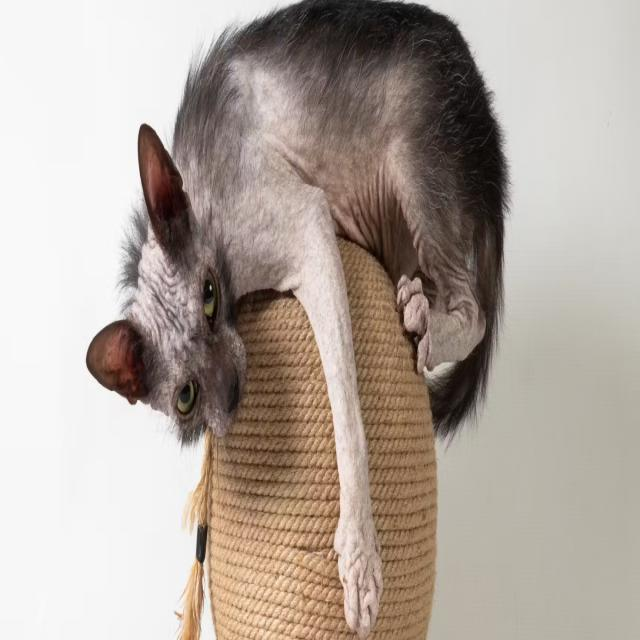Lykoi: (83, 0, 512, 640)
